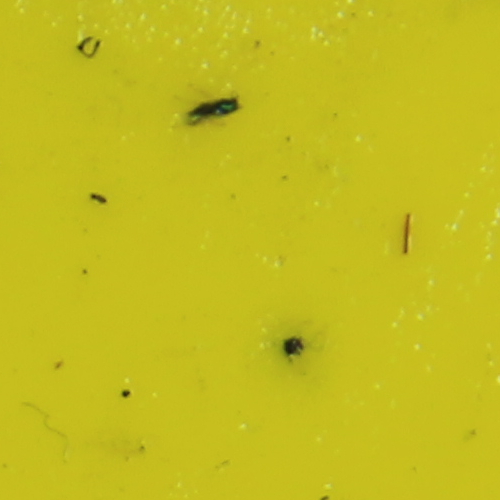wasp: (186, 90, 245, 128)
